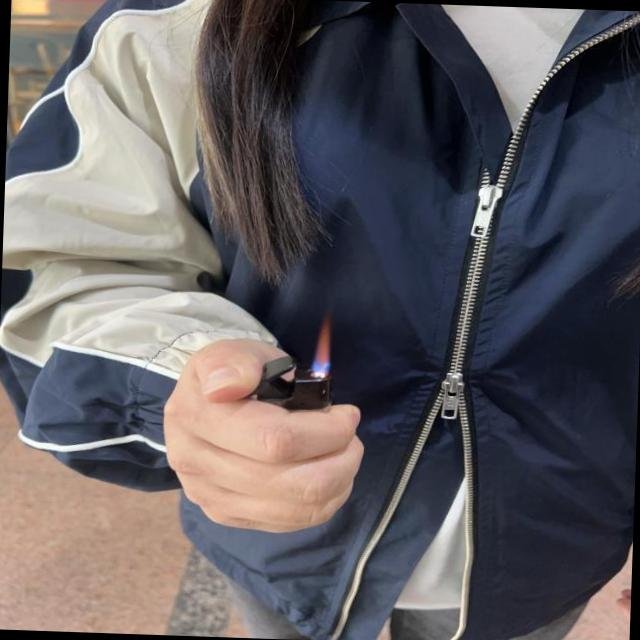Fire: (312, 311, 336, 378)
